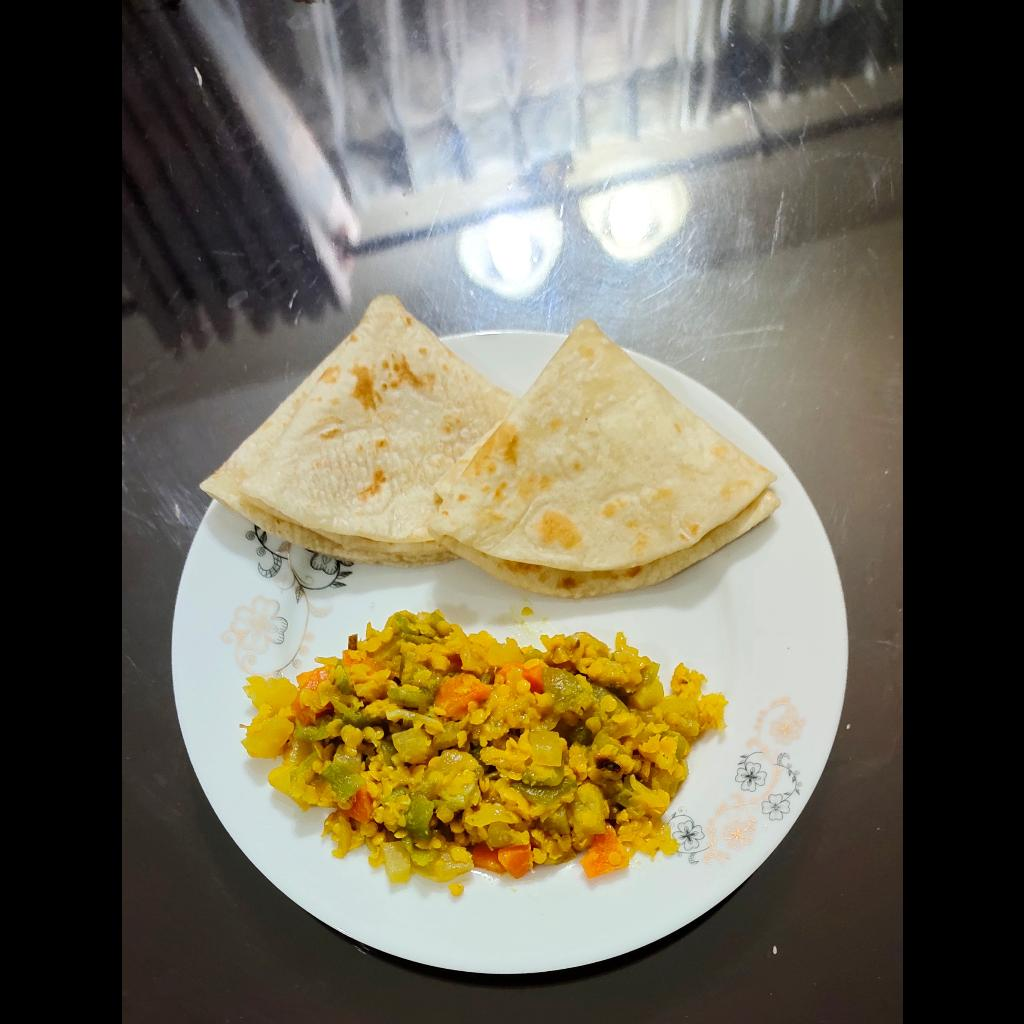ruti: (202, 290, 777, 597)
vegetable: (238, 610, 729, 890)
